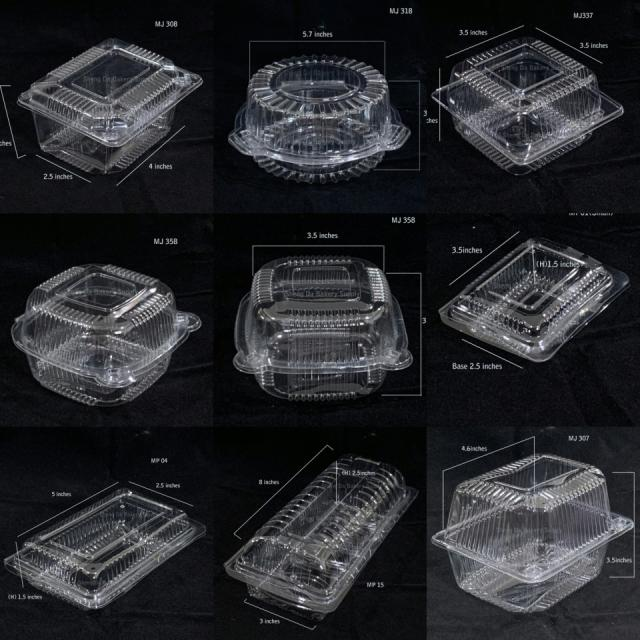Single-Use-Plastic: (431, 454, 634, 612), (225, 455, 418, 619), (11, 264, 201, 406), (432, 38, 624, 175), (234, 256, 412, 401), (18, 39, 202, 173), (5, 488, 206, 609), (439, 239, 629, 362), (229, 56, 410, 182)
